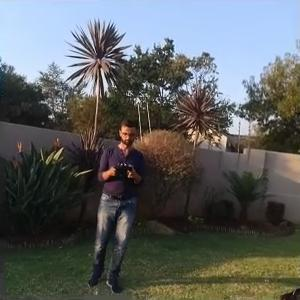follow: (85, 109, 147, 296)
